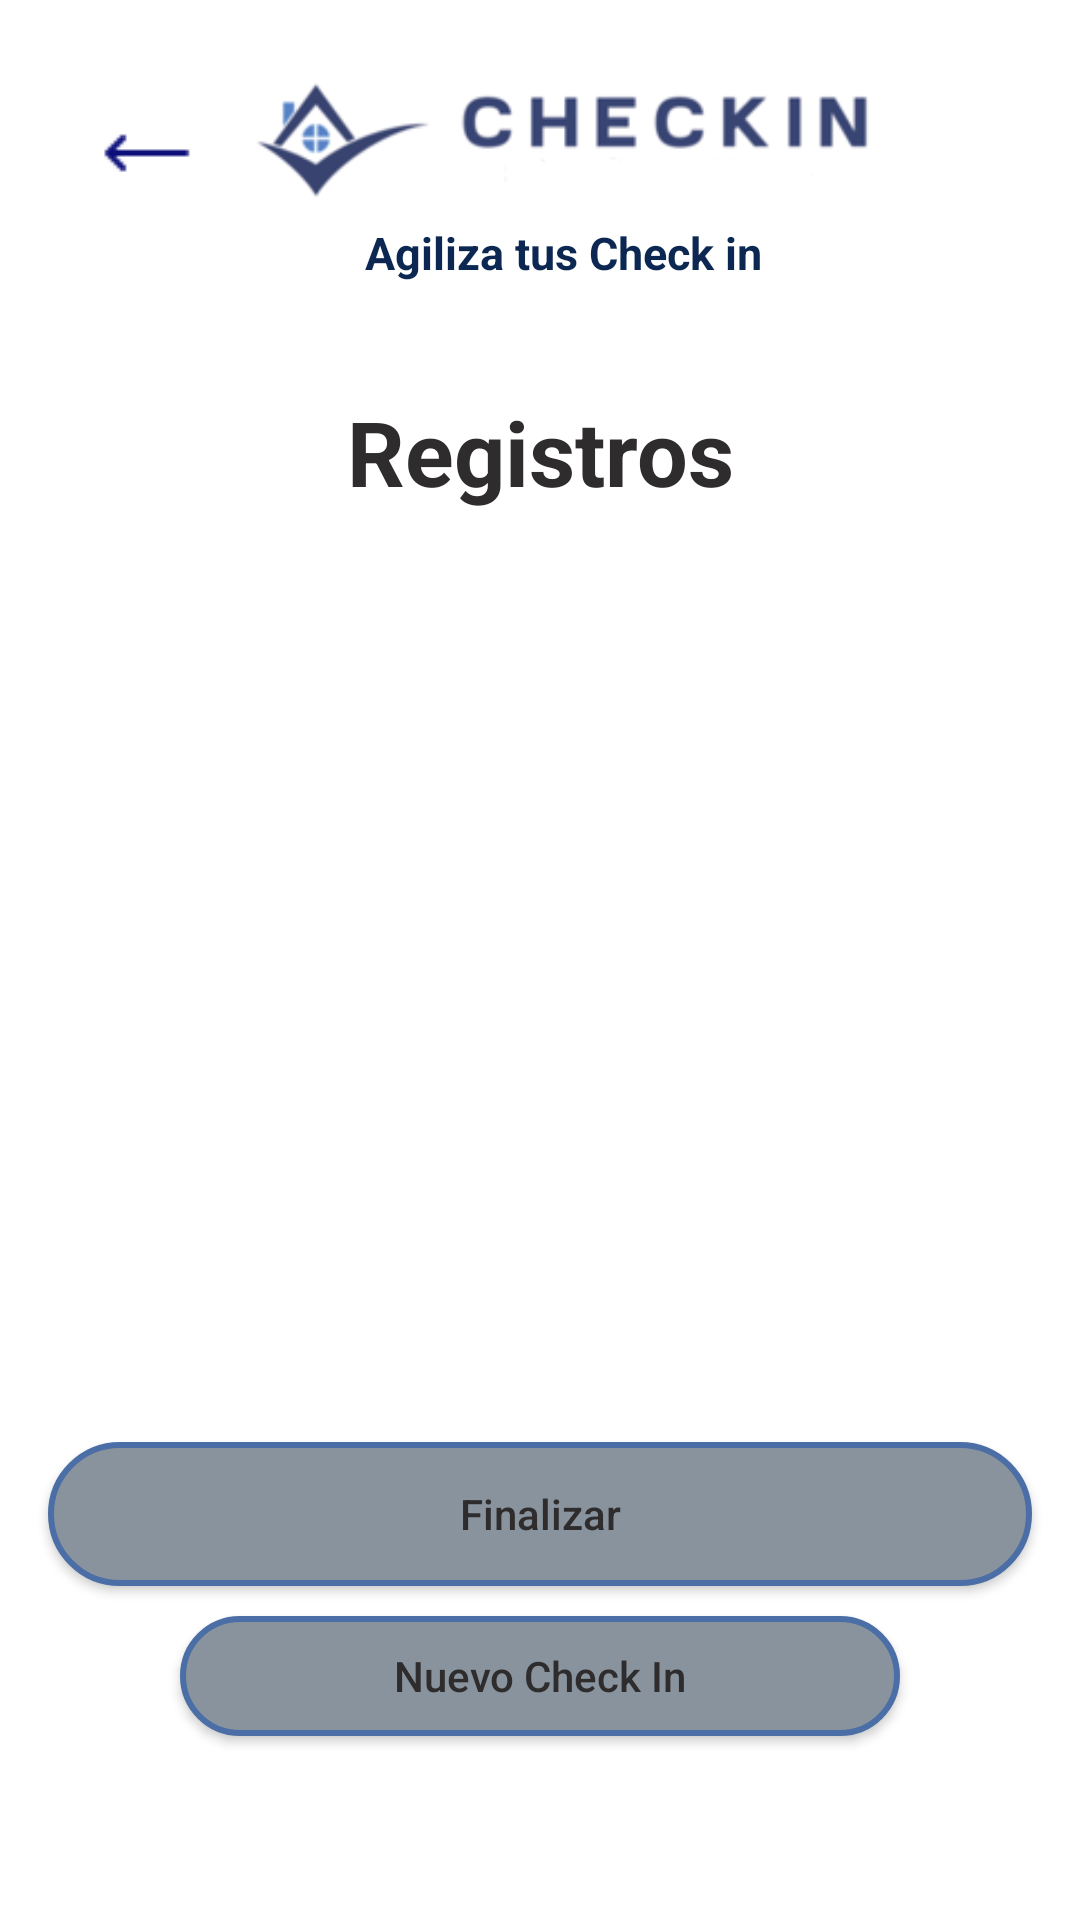

Named icons in this screenshot (1080px x 1920px) and their bounding boxes, (x1, y1, x2, y2):
atras: (104, 134, 190, 172)
